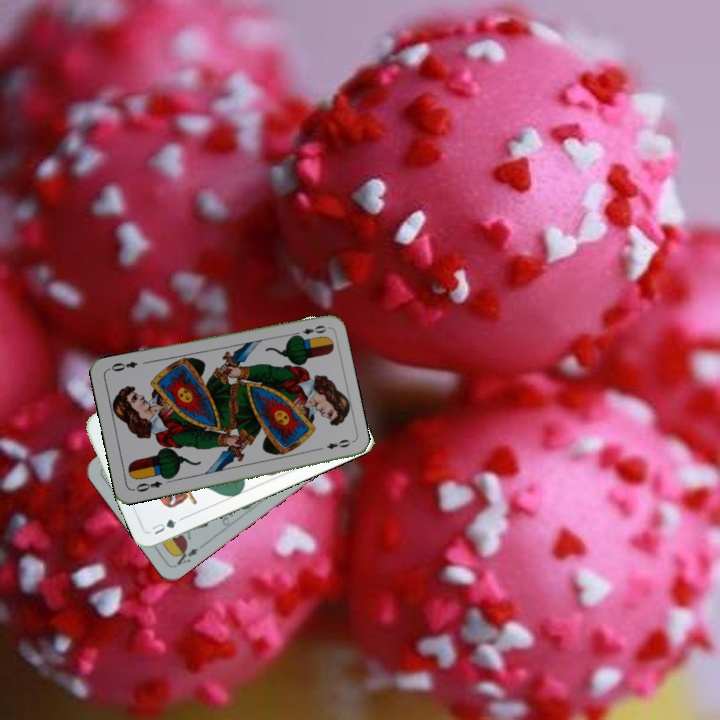EA: (172, 543, 201, 568)
EO: (289, 321, 329, 340), (129, 477, 165, 494)
GU: (148, 515, 179, 537)
